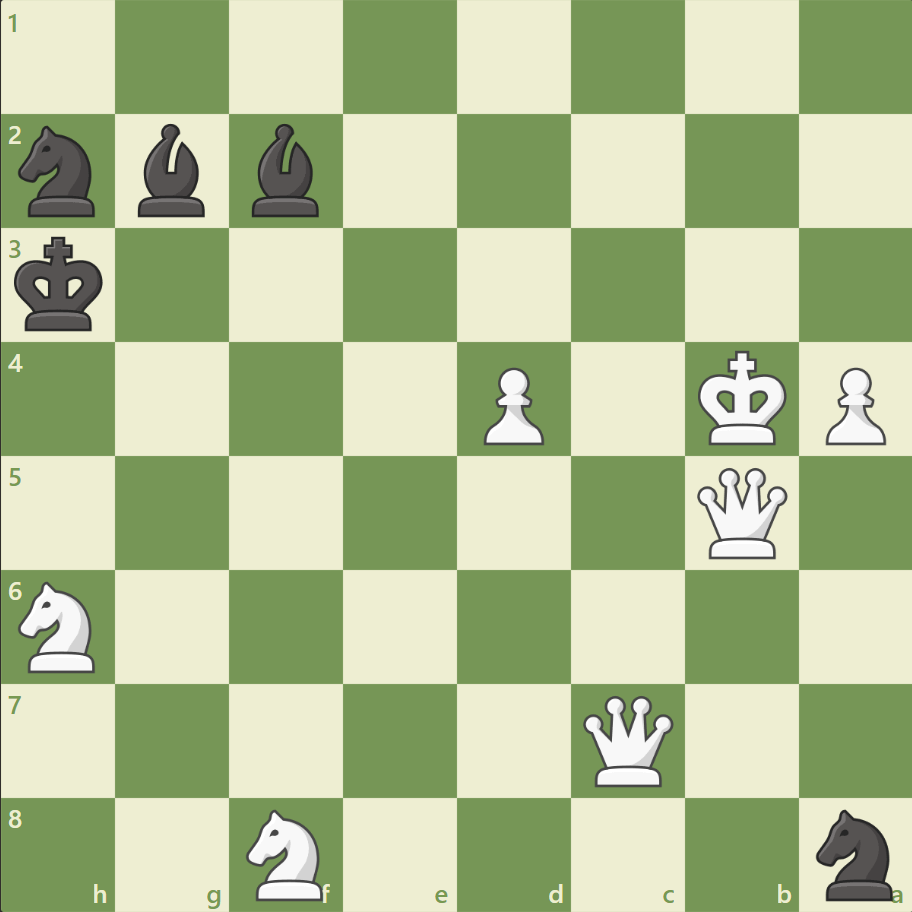K: (692, 344, 792, 452)
N: (238, 802, 335, 904), (11, 575, 108, 677)
P: (474, 359, 549, 450), (815, 359, 889, 450)
Q: (578, 690, 677, 789), (691, 463, 790, 562)
b: (244, 120, 328, 222), (131, 120, 215, 222)
k: (11, 231, 111, 339)
n: (806, 802, 903, 904), (11, 121, 108, 223)
